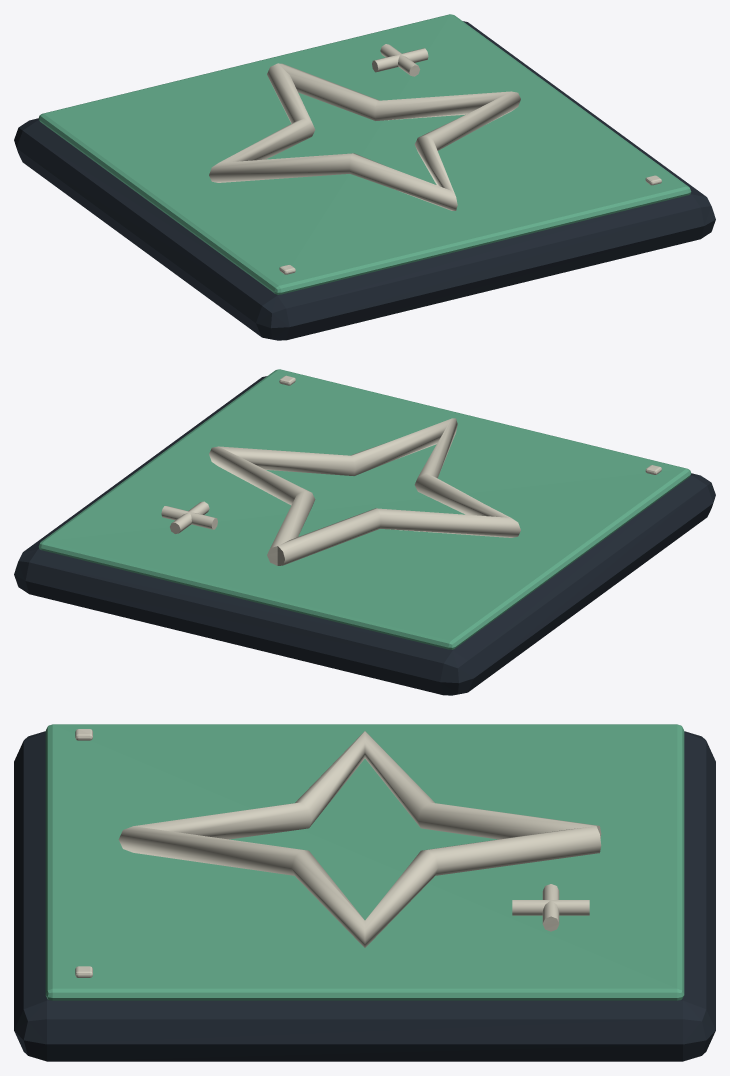
The model's file is app_ai.glb.
3 renders of one model, top to bottom at view 1: azimuth 30°, elevation 25°; view 2: azimuth 150°, elevation 25°; view 3: azimuth 270°, elevation 25°, orthographic. The views are drawn at different scales.
Parts seen in each view (by area): view 1: app_ai; view 2: app_ai; view 3: app_ai.
Boxes of the visible parts, <box> form: app_ai: <box>14,14,715,340</box>; app_ai: <box>14,369,715,695</box>; app_ai: <box>14,724,715,1061</box>.
Size of the model in its own units: 1 by 0.157 by 1.
